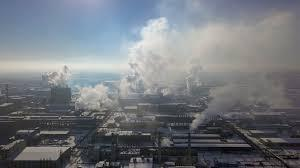smoke: (119, 18, 182, 99), (192, 80, 285, 130), (71, 81, 110, 113), (183, 44, 205, 84), (46, 68, 76, 90)
